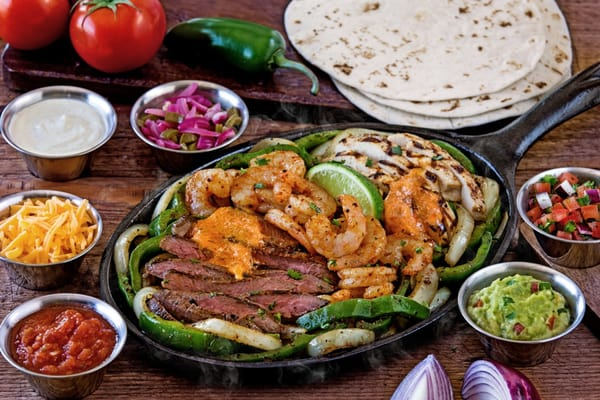steak: (68, 0, 167, 73), (0, 0, 71, 50)
sushi: (457, 260, 586, 367), (0, 292, 128, 398), (0, 83, 117, 181), (130, 79, 250, 172), (0, 189, 103, 289), (516, 166, 600, 268)
